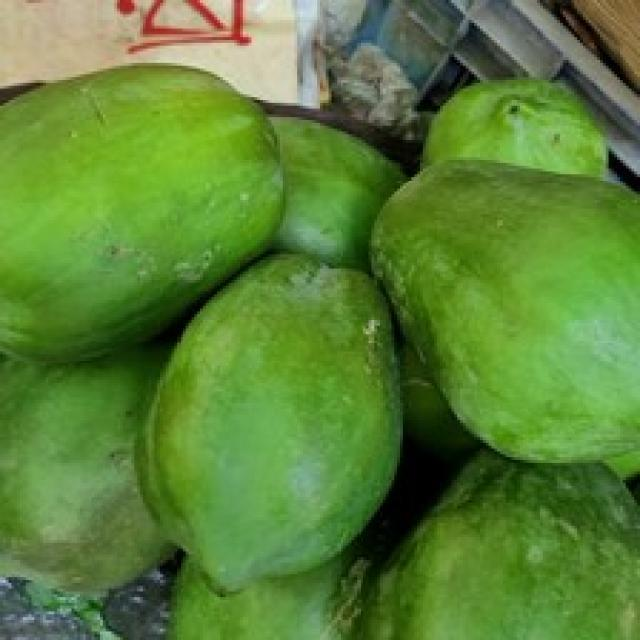Pepaya unrippen: (130, 256, 406, 574), (372, 156, 640, 478), (1, 55, 285, 328)
